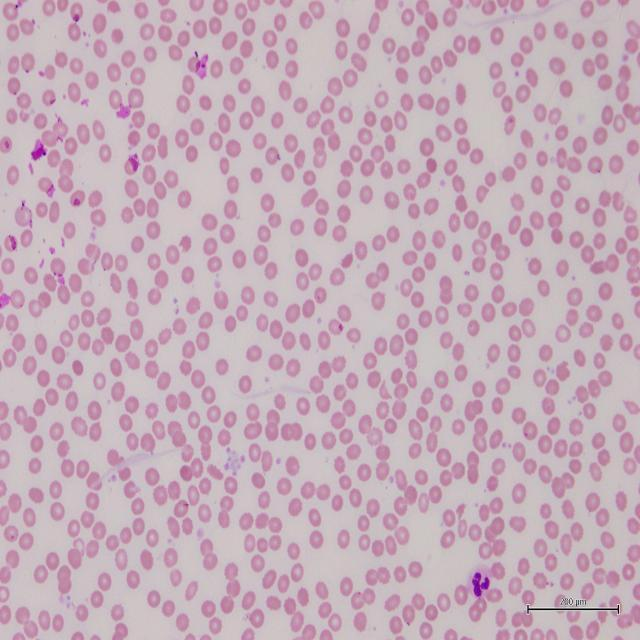cell: (466, 564, 492, 599)
